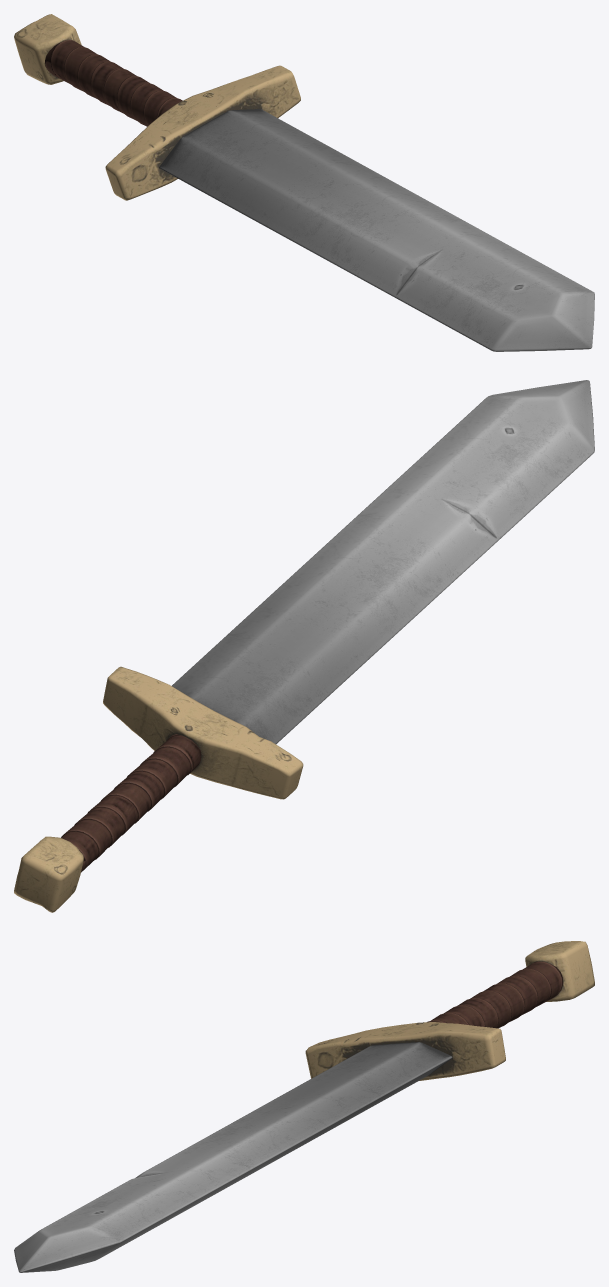
The model's file is sword_std.glb.
3 views of the same model, one above another, from view 1: azimuth 30°, elevation 25°; view 2: azimuth 150°, elevation 25°; view 3: azimuth 330°, elevation 25° (orthographic).
Visible parts, largest first — view 1: Sword; view 2: Sword; view 3: Sword.
Boxes of the visible parts, x1,y1,x2,y2 form: Sword: (14,14,594,351); Sword: (14,380,594,912); Sword: (14,941,594,1272).
Bounding box in the file's own units: 21.41 × 15.08 × 110.
Materials: 1 (1 with a texture image).
